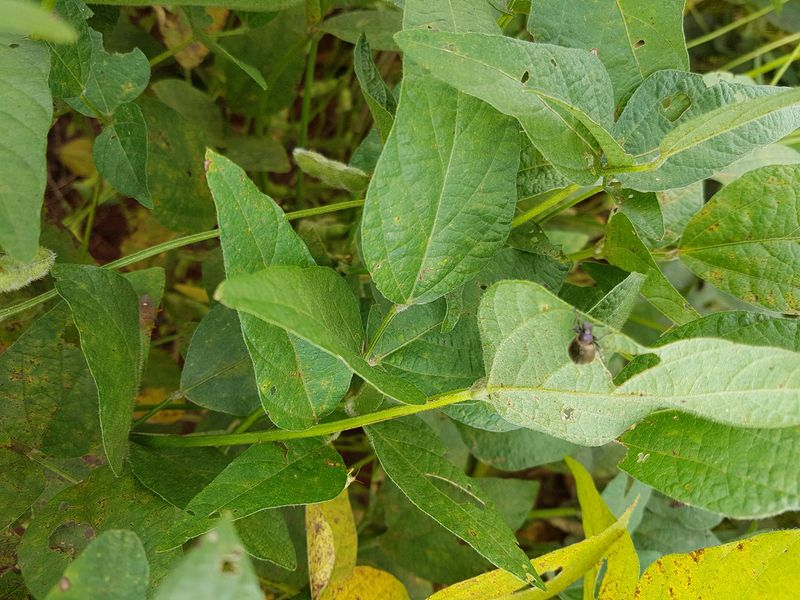Euschistus_heros_adulto: (120, 287, 170, 340)
Lagria_villosa: (558, 313, 617, 377)
